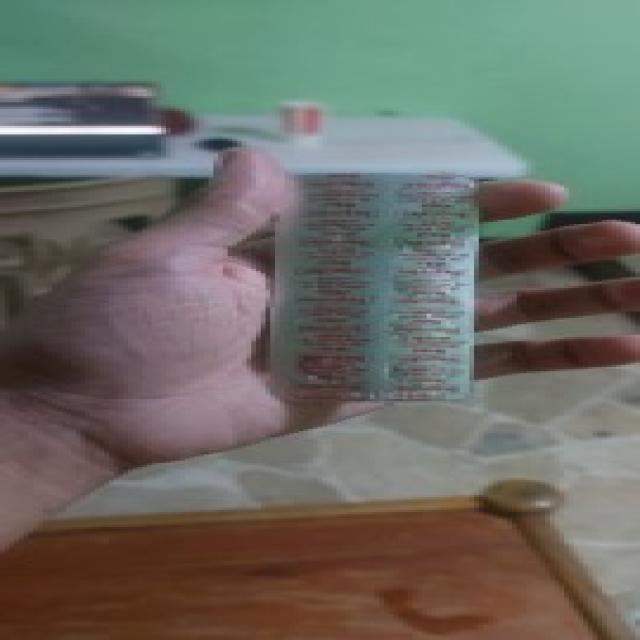Cacat: (276, 170, 474, 402)
